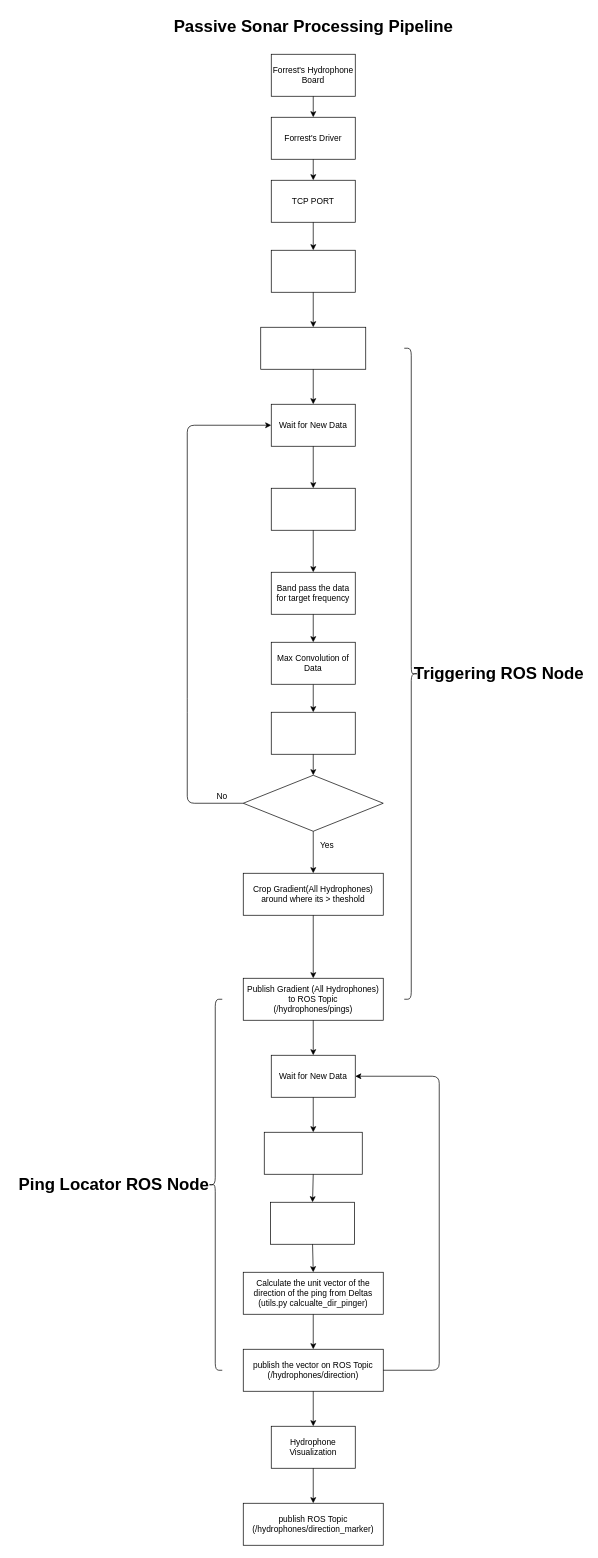
The diagram is 598 pixels wide and 1558 high, and some of its shapes have lost their labels. Each missing label, with the centre of its shape:
"Cross Correlate the Hydrophones" belongs at [313,1153].
"Get time Deltas from Cross Correlation (Time delay)" belongs at [312,1223].
"Gradient of Max Convolution" belongs at [313,733].
"Gradient(Hydrophone 0) > Theshold" belongs at [313,803].
"Raw Hydrophone Data" belongs at [313,509].
"ROS Topic (/hydrophones/samples)" belongs at [313,348].
"Syphase Ros Bridge" belongs at [313,271].
